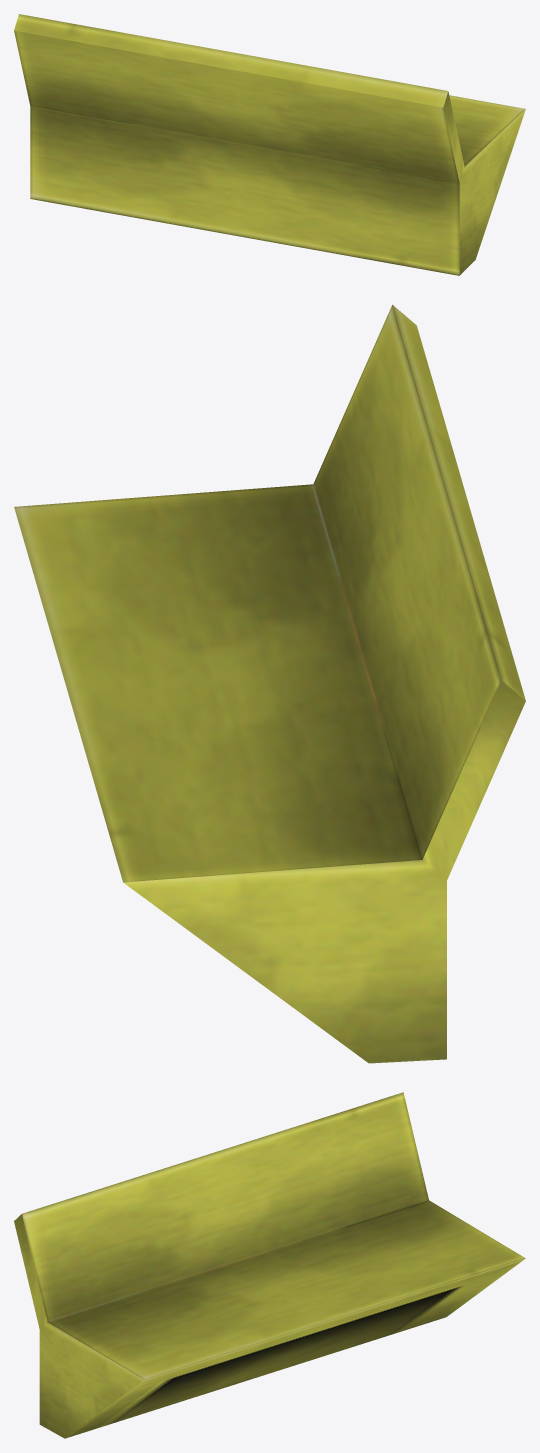
The model's file is bench02.glb.
3 views of the same model, one above another, from view 1: azimuth 30°, elevation 25°; view 2: azimuth 150°, elevation 25°; view 3: azimuth 270°, elevation 25° (orthographic). The views are drawn at different scales.
Visible parts, largest first — view 1: bench02; view 2: bench02; view 3: bench02.
Boxes of the visible parts, x1,y1,x2,y2 form: bench02: [14, 14, 525, 275]; bench02: [14, 304, 525, 1063]; bench02: [14, 1092, 525, 1438].
Bounding box in the file's own units: 279 × 134 × 310.
1 material, 1 textured.
